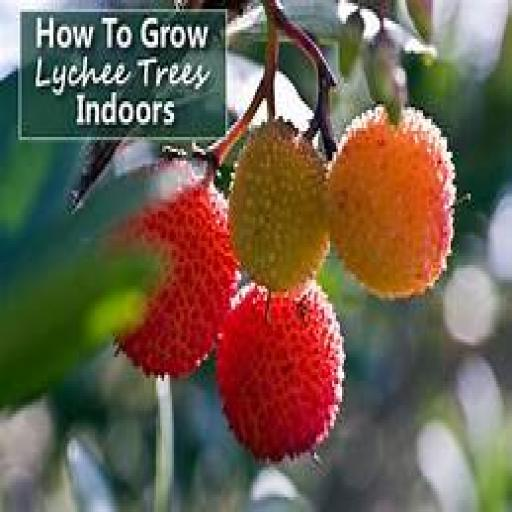lychee: (117, 161, 237, 378), (329, 108, 454, 297), (218, 283, 343, 461), (230, 120, 328, 291)
